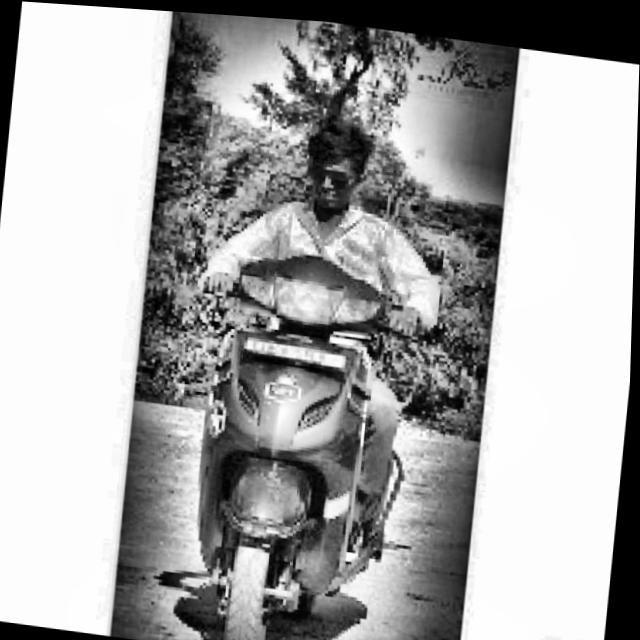motorcycle: (158, 239, 455, 640)
